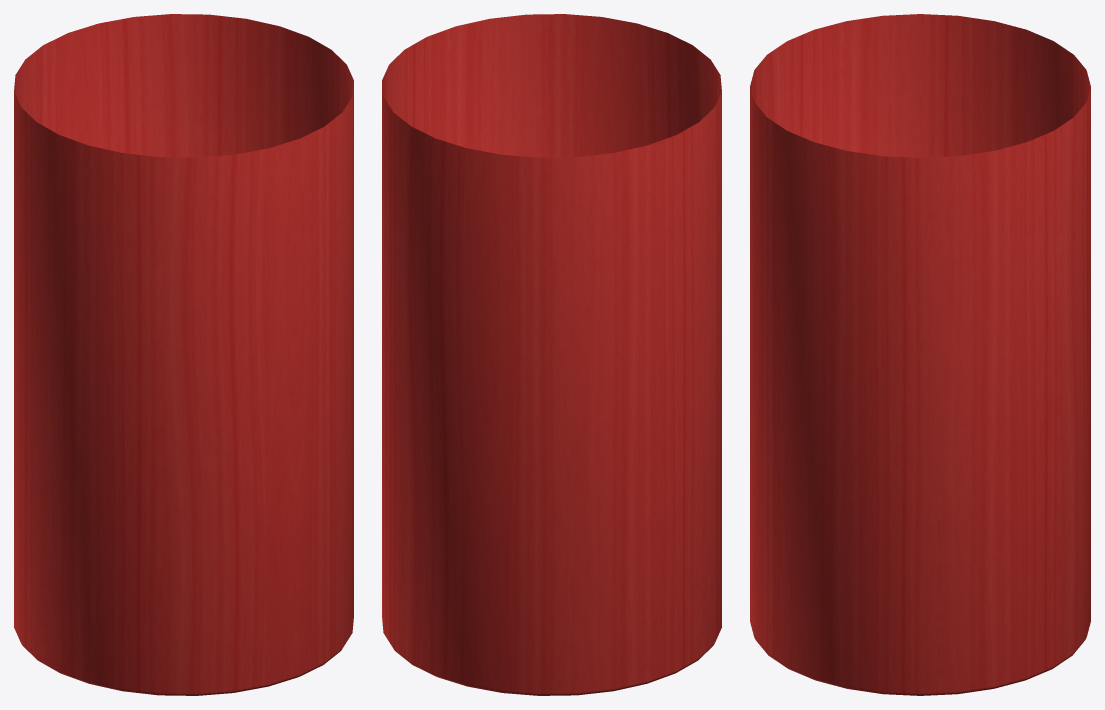
The model's file is dazhuzi.FBX.
3 renders of one model, left to right at view 1: azimuth 30°, elevation 25°; view 2: azimuth 150°, elevation 25°; view 3: azimuth 270°, elevation 25°, orthographic.
Visible parts, largest first — view 1: dazhuzi; view 2: dazhuzi; view 3: dazhuzi.
Part boxes in pixels (x1,y1,x2,y2): dazhuzi: (14, 14, 353, 695); dazhuzi: (382, 14, 721, 695); dazhuzi: (750, 14, 1090, 695).
Bounding box in the file's own units: 628 × 1098 × 628.
Materials: 1 (1 with a texture image).
